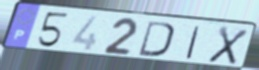2: (103, 16, 140, 57)
4: (70, 14, 101, 53)
5: (36, 10, 72, 49)
D: (137, 19, 176, 58)
I: (184, 25, 202, 61)
X: (206, 25, 251, 66)
